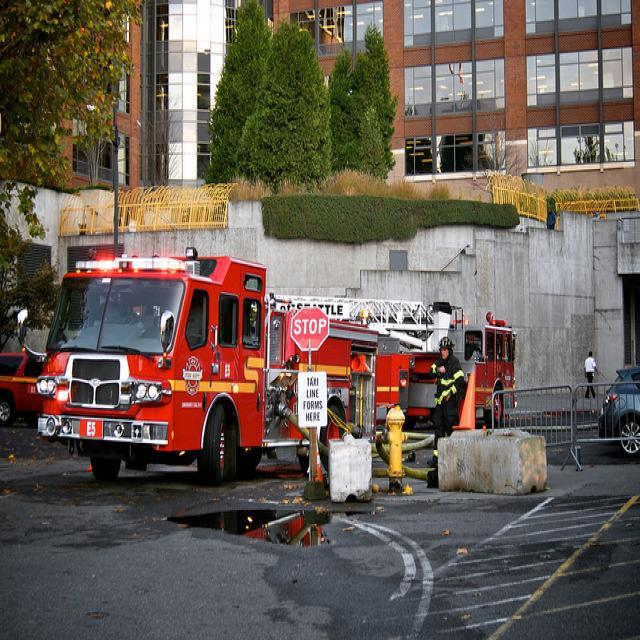fire_hydrant: (386, 404, 407, 492)
